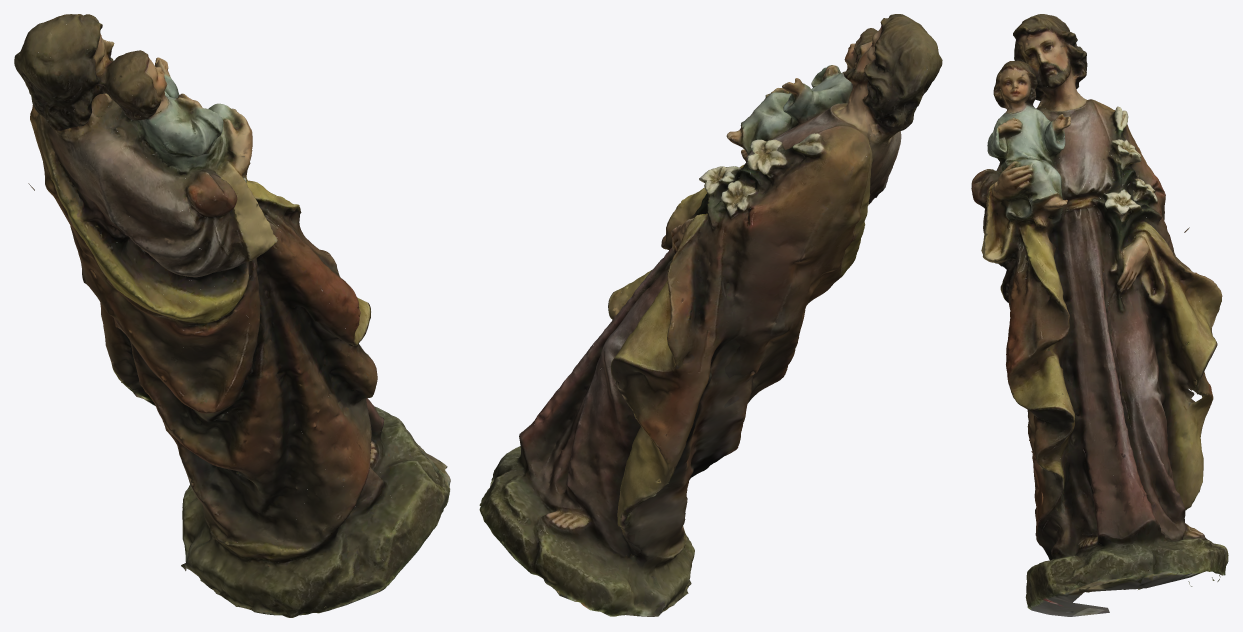
File: st-joseph.glb
3 views of the same model, side by side, from view 1: azimuth 30°, elevation 25°; view 2: azimuth 150°, elevation 25°; view 3: azimuth 270°, elevation 25° (orthographic). The views are drawn at different scales.
Visible parts, largest first — view 1: Stereo textured mesh; view 2: Stereo textured mesh; view 3: Stereo textured mesh.
Boxes of the visible parts, x1=… form: Stereo textured mesh: x1=14, y1=14, x2=450, y2=617; Stereo textured mesh: x1=479, y1=14, x2=942, y2=616; Stereo textured mesh: x1=971, y1=14, x2=1228, y2=616.
Size of the model in its own units: 698 by 1000 by 466.
Materials: 4 (4 with a texture image).
